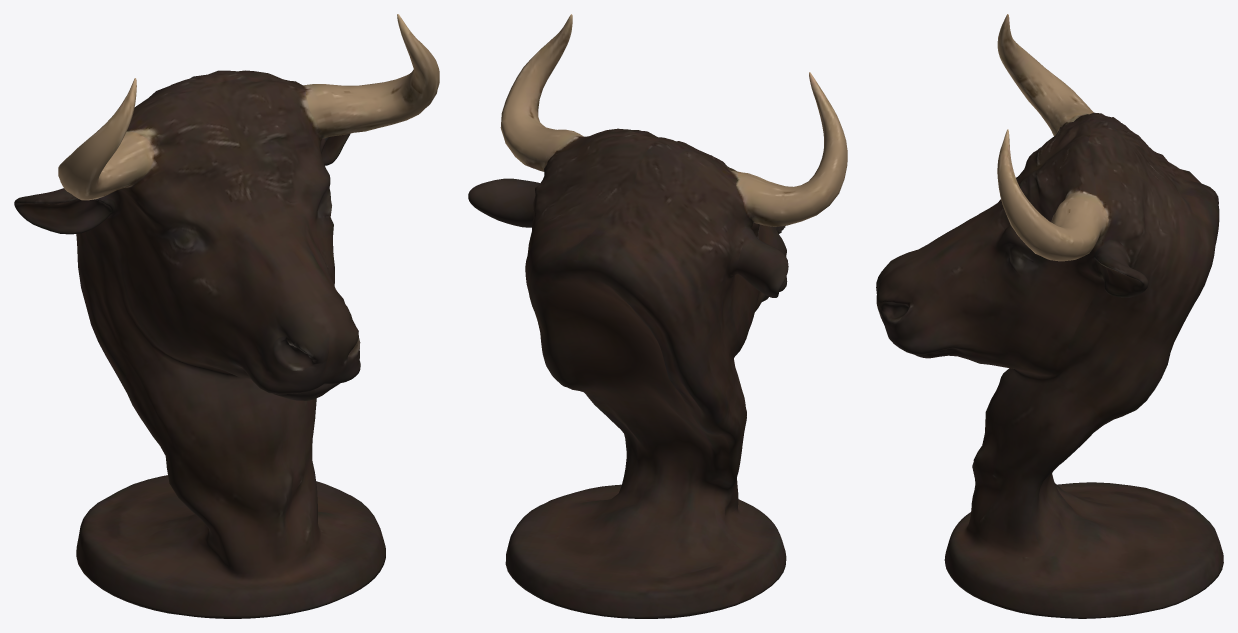
The model's file is bullHead.glb.
The picture shows the model from 3 angles, left to right: view 1: azimuth 30°, elevation 25°; view 2: azimuth 150°, elevation 25°; view 3: azimuth 270°, elevation 25°; orthographic projection. The views are drawn at different scales.
Parts seen in each view (by area): view 1: bull_head; view 2: bull_head; view 3: bull_head.
Part boxes in pixels (bbox=[...]): bull_head: bbox=[14, 14, 439, 618]; bull_head: bbox=[468, 14, 847, 618]; bull_head: bbox=[876, 14, 1223, 618].
Size of the model in its own units: 0.3064 by 0.433 by 0.2807.
Materials: 1 (1 with a texture image).
